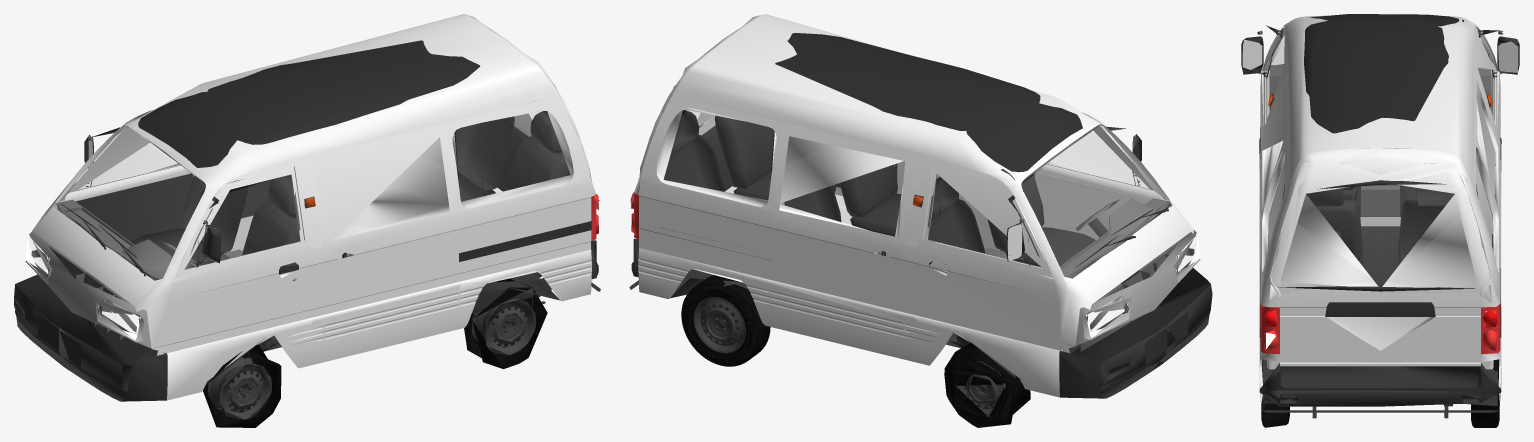
The model's file is damas.glb.
3 views of the same model, side by side, from view 1: azimuth 30°, elevation 25°; view 2: azimuth 150°, elevation 25°; view 3: azimuth 270°, elevation 25° (orthographic). The views are drawn at different scales.
Parts seen in each view (by area): view 1: Object_12, Object_14, Object_17, Object_19, Object_25, Object_11, Object_21, Object_18, Object_24, Object_22, Object_23; view 2: Object_12, Object_14, Object_17, Object_19, Object_11, Object_18, Object_21, Object_25, Object_22, Object_24, Object_23; view 3: Object_12, Object_14, Object_17, Object_19, Object_18, Object_3, Object_11, Object_24, Object_2, Object_10, Object_22, Object_25.
Part boxes in pixels (x1=…): Object_12: x1=32, y1=14, x2=595, y2=400; Object_14: x1=76, y1=40, x2=570, y2=355; Object_17: x1=29, y1=110, x2=571, y2=333; Object_19: x1=14, y1=135, x2=598, y2=401; Object_25: x1=86, y1=127, x2=536, y2=419; Object_11: x1=203, y1=278, x2=547, y2=427; Object_21: x1=25, y1=232, x2=296, y2=347; Object_18: x1=44, y1=199, x2=242, y2=340; Object_24: x1=205, y1=272, x2=600, y2=407; Object_22: x1=31, y1=136, x2=300, y2=333; Object_23: x1=25, y1=236, x2=139, y2=340; Object_12: x1=634, y1=14, x2=1193, y2=397; Object_14: x1=663, y1=33, x2=1095, y2=353; Object_17: x1=660, y1=109, x2=1196, y2=331; Object_19: x1=631, y1=124, x2=1212, y2=398; Object_11: x1=681, y1=275, x2=1030, y2=427; Object_18: x1=984, y1=198, x2=1181, y2=351; Object_21: x1=1075, y1=230, x2=1200, y2=345; Object_25: x1=693, y1=126, x2=1140, y2=416; Object_22: x1=927, y1=128, x2=1194, y2=330; Object_24: x1=629, y1=269, x2=1021, y2=382; Object_23: x1=1087, y1=235, x2=1200, y2=337; Object_12: x1=1259, y1=15, x2=1501, y2=405; Object_14: x1=1268, y1=14, x2=1495, y2=285; Object_17: x1=1264, y1=40, x2=1496, y2=287; Object_19: x1=1241, y1=36, x2=1519, y2=406; Object_18: x1=1269, y1=64, x2=1491, y2=216; Object_3: x1=1260, y1=303, x2=1500, y2=354; Object_11: x1=1261, y1=359, x2=1499, y2=427; Object_24: x1=1262, y1=334, x2=1498, y2=418; Object_2: x1=1242, y1=37, x2=1518, y2=72; Object_10: x1=1265, y1=311, x2=1497, y2=327; Object_22: x1=1257, y1=30, x2=1503, y2=121; Object_25: x1=1261, y1=25, x2=1499, y2=411.
Size of what is drawn, in the model's own units: 8.64 by 4.74 by 4.02.
Materials: 15 (1 with a texture image).
